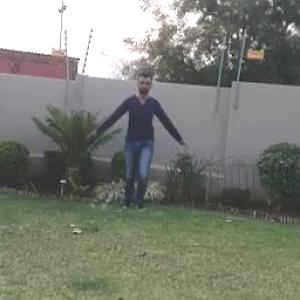land: (82, 70, 200, 225)
